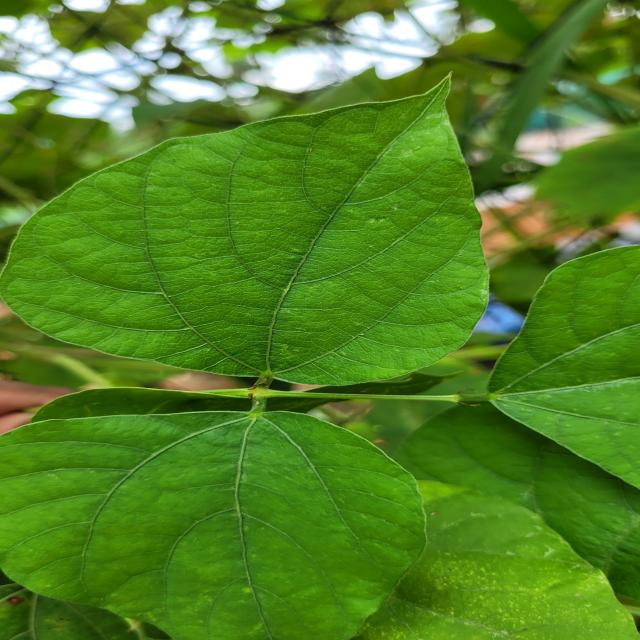Dolicos bean_healthy: (4, 68, 490, 382), (0, 408, 431, 639), (494, 237, 640, 490)
